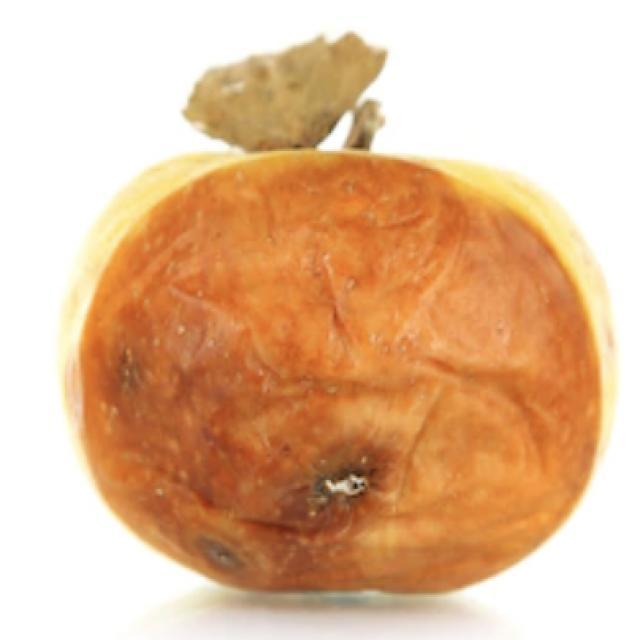Rotten: (61, 127, 612, 603)
